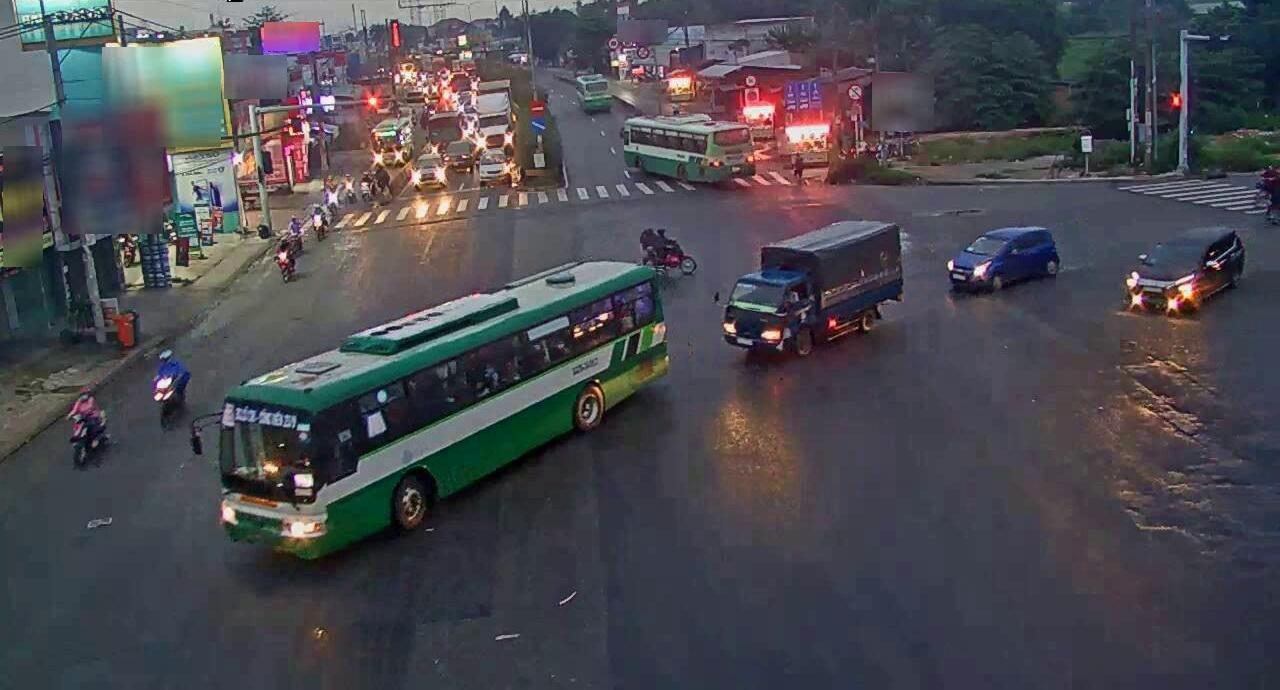xe buyt: (222, 259, 662, 557), (609, 115, 764, 190)
xe hoi: (958, 223, 1070, 297)
xe may: (64, 381, 113, 469), (146, 344, 190, 425), (279, 230, 305, 278)
xe tai: (718, 216, 916, 357)
